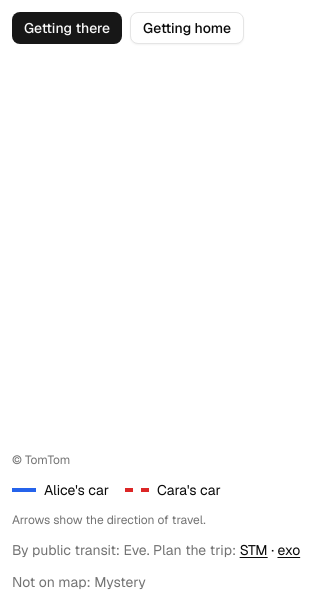
Test: CommuteMap › pins transit riders in their phase and links the trip planners there (AC 8)
Expected: the text "By public transit: Eve. Plan the trip:" is shown, x1=12 y1=541 x2=240 y2=559
Expected: the text "Finn" is not shown
Click the button "Getting home" at (187, 28), box x1=130 y1=12 x2=244 y2=44
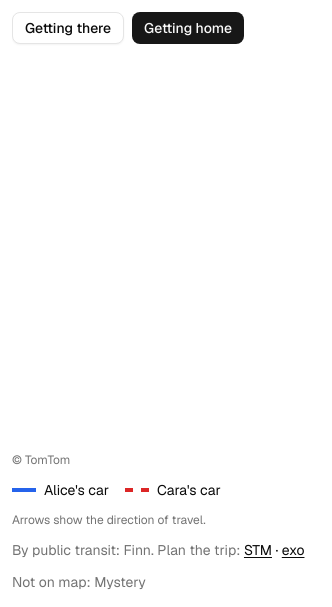
Expected: the text "By public transit: Finn. Plan the trip:" is shown, x1=12 y1=541 x2=244 y2=559
Expected: the text "Eve" is gone
